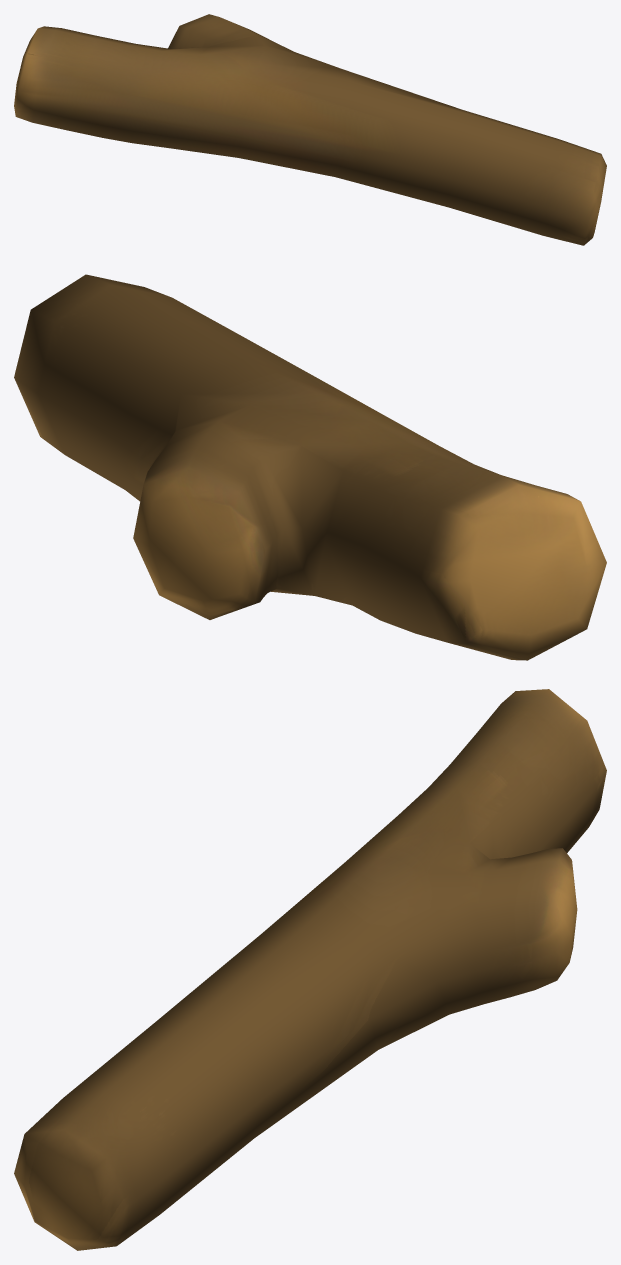
Rendered from RealStick.fbx.
3 renders of one model, top to bottom at view 1: azimuth 30°, elevation 25°; view 2: azimuth 150°, elevation 25°; view 3: azimuth 270°, elevation 25°, orthographic. The views are drawn at different scales.
Parts seen in each view (by area): view 1: StickNOTBAMBOO; view 2: StickNOTBAMBOO; view 3: StickNOTBAMBOO.
Part boxes in pixels (<box>): StickNOTBAMBOO: <box>14,14,606,245</box>; StickNOTBAMBOO: <box>14,274,606,660</box>; StickNOTBAMBOO: <box>14,689,606,1250</box>.
Size of the model in its own units: 22.28 by 9.12 by 17.29.
